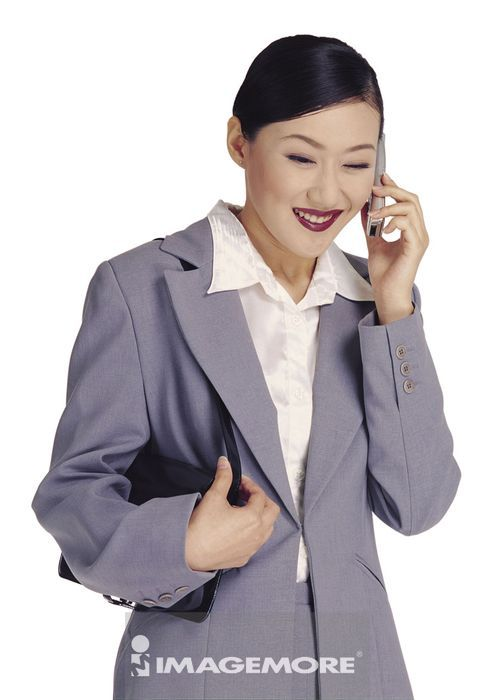phone: (369, 130, 388, 245)
talk: (275, 122, 428, 322)
